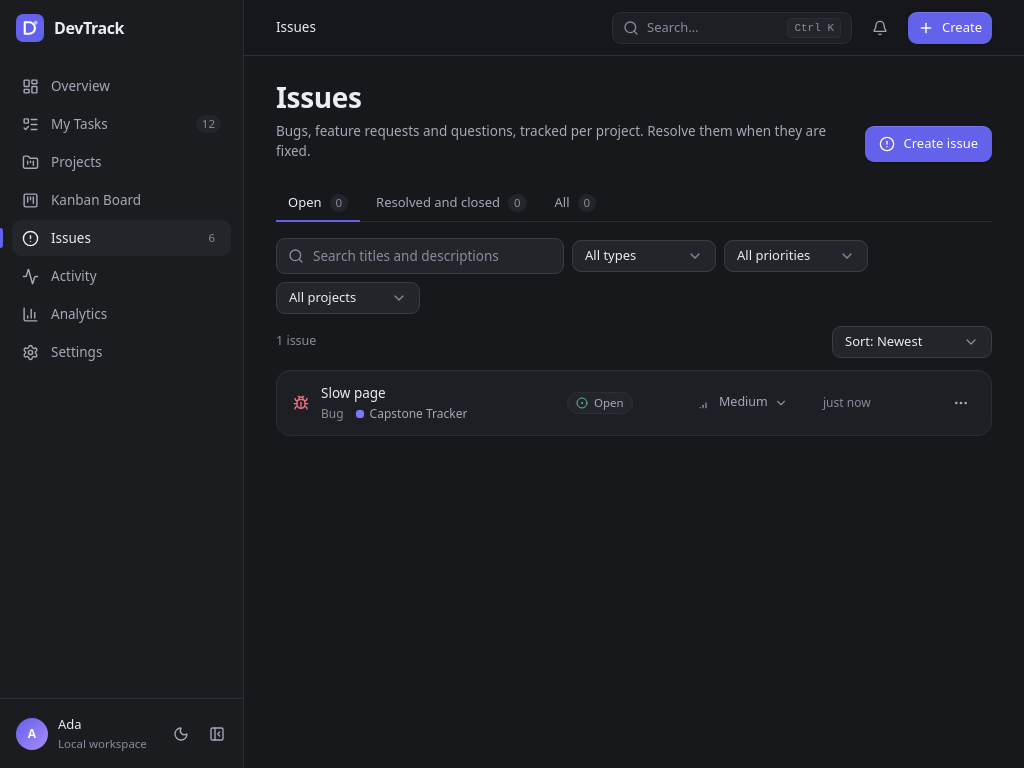
Scenario: Issues › changes priority inline
Step 1. Click the button with aria-label "Priority: Medium. Change priority of Slow page" → [751, 403], box [691,389,811,417]
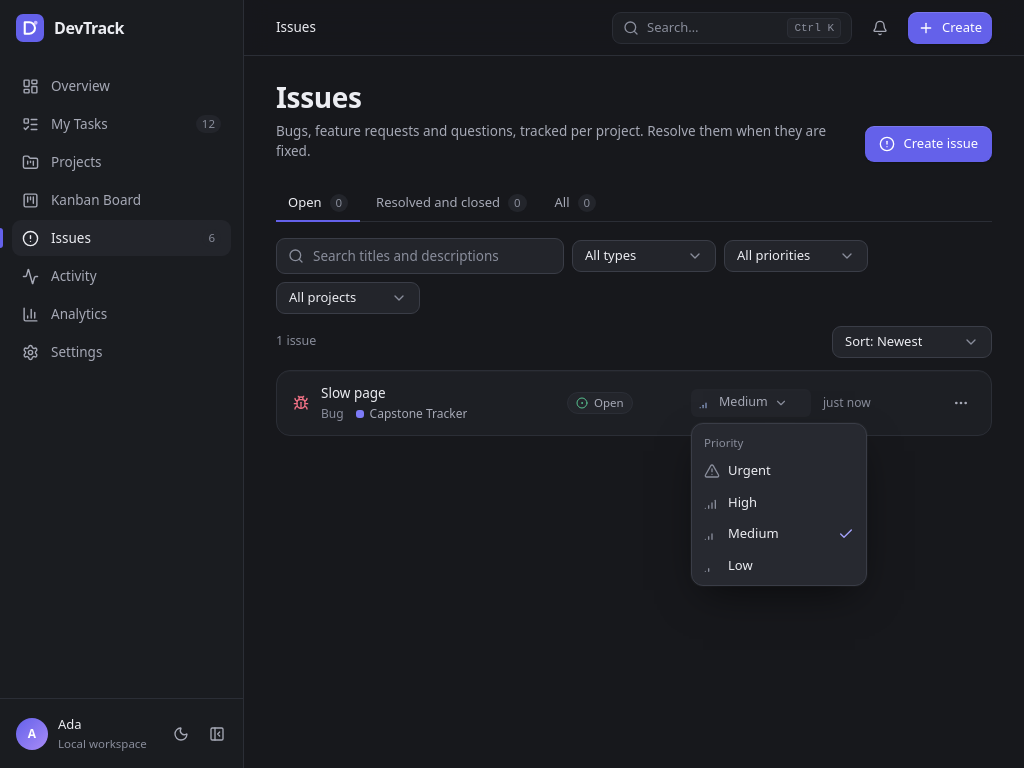
Step 2. Click the menu item "High" → [730, 502], box [704,493,757,511]
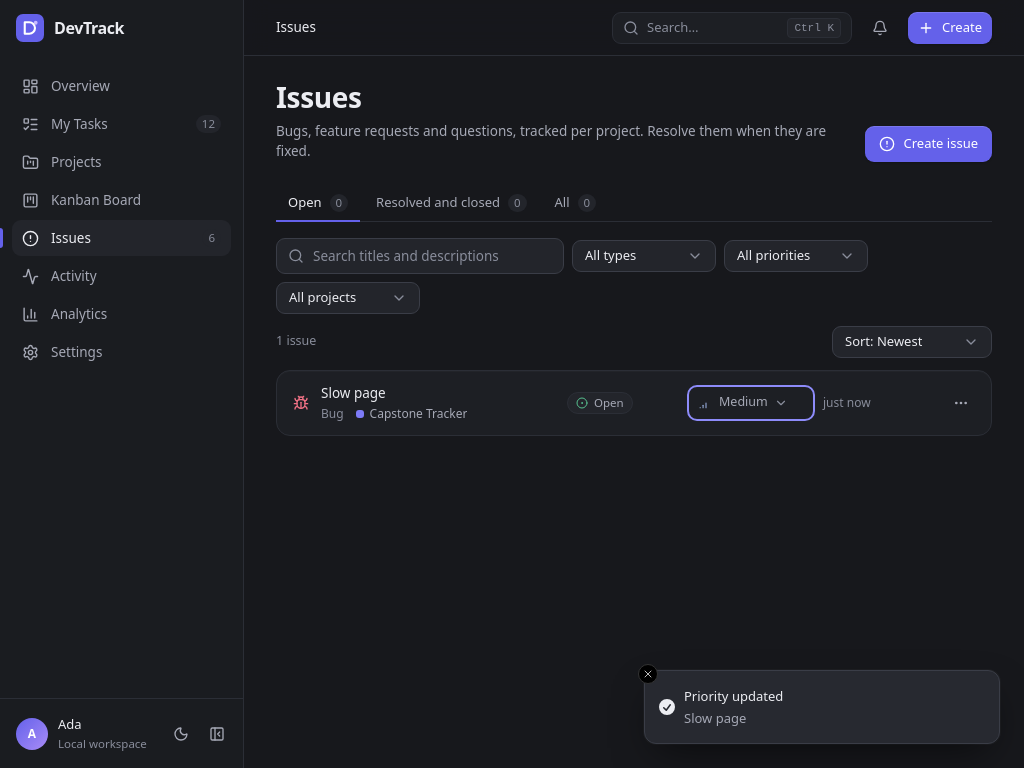
Expected: the text "Priority updated" is shown, [684,687,783,707]
